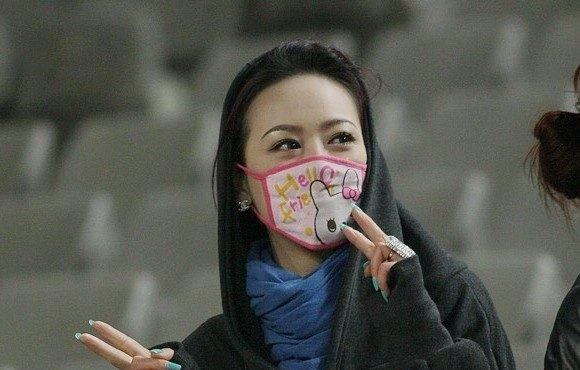OK: (245, 114, 375, 244)
